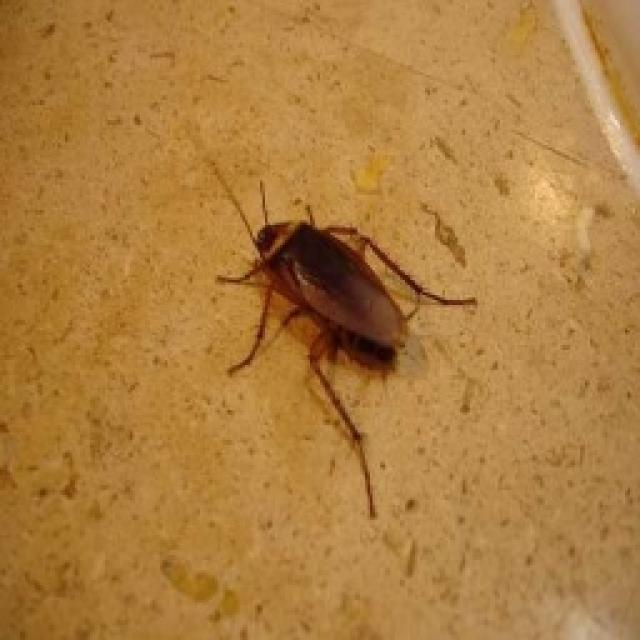cockroach: (201, 157, 481, 523)
